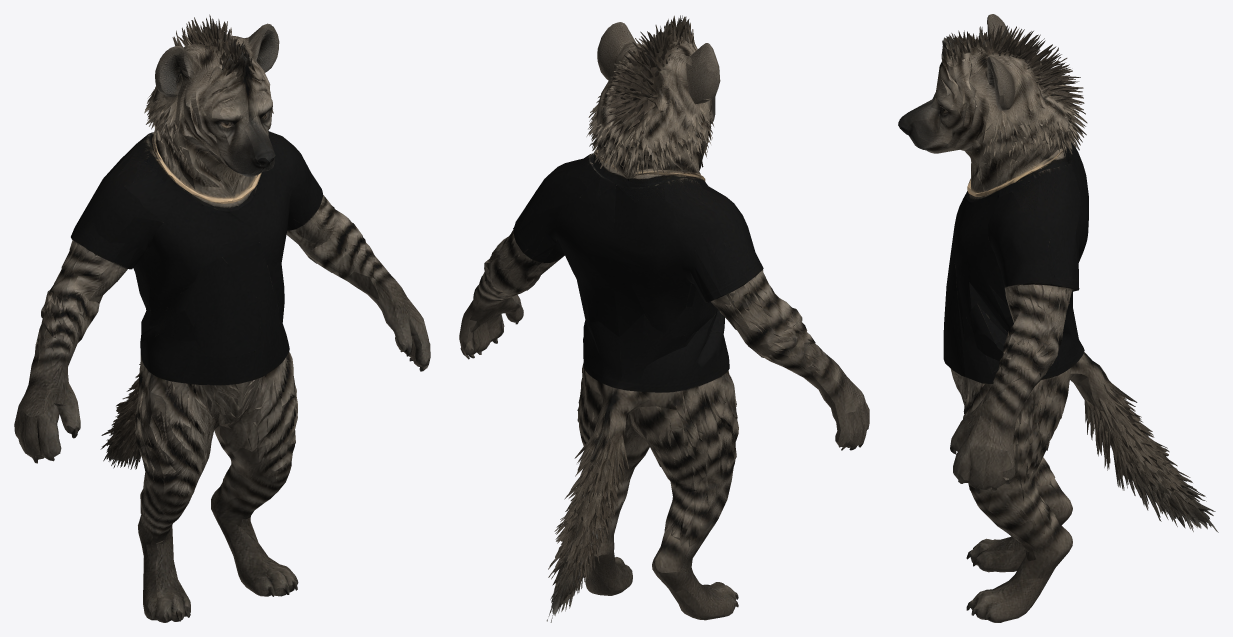
The model's file is sirtlan-mesh.glb.
The picture shows the model from 3 angles, left to right: view 1: azimuth 30°, elevation 25°; view 2: azimuth 150°, elevation 25°; view 3: azimuth 270°, elevation 25°; orthographic projection. The views are drawn at different scales.
Visible parts, largest first — view 1: Mesh_0; view 2: Mesh_0; view 3: Mesh_0.
Boxes of the visible parts, <box> form: Mesh_0: <box>14,14,430,622</box>; Mesh_0: <box>459,15,869,622</box>; Mesh_0: <box>898,14,1218,622</box>.
Size of the model in its own units: 1.38 by 1.9 by 0.9753.
Materials: 1 (1 with a texture image).
